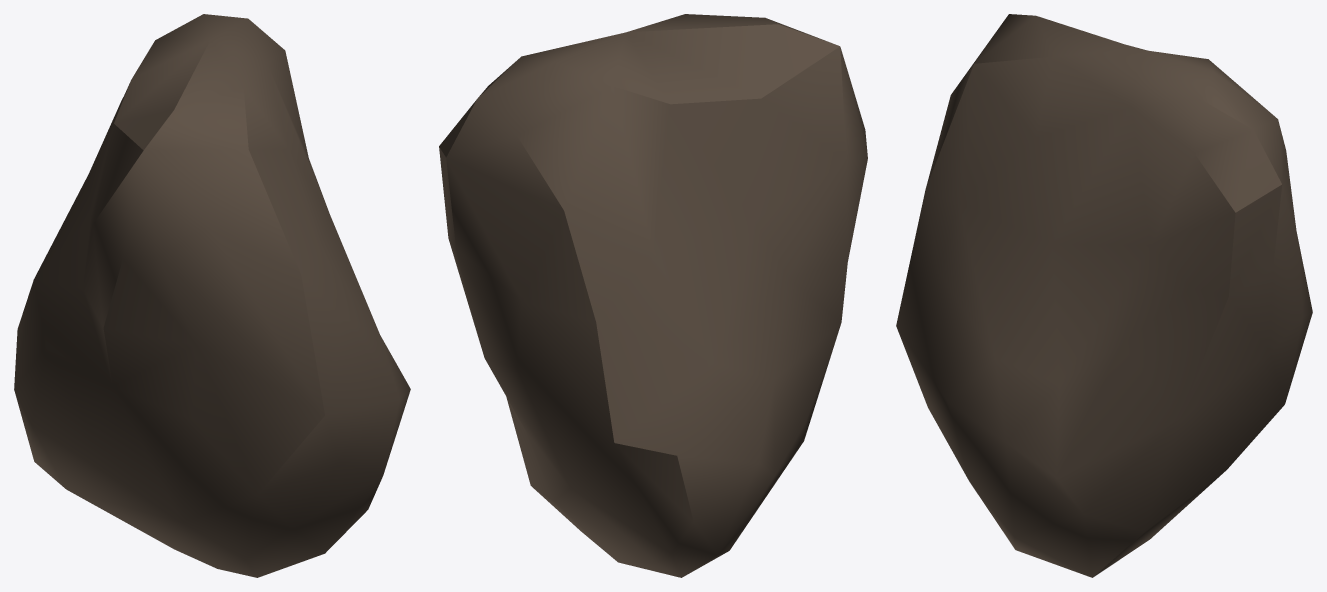
File: rock.fbx
3 renders of one model, left to right at view 1: azimuth 30°, elevation 25°; view 2: azimuth 150°, elevation 25°; view 3: azimuth 270°, elevation 25°, orthographic. The views are drawn at different scales.
Parts seen in each view (by area): view 1: rock; view 2: rock; view 3: rock.
Boxes of the visible parts, x1=… form: rock: x1=14, y1=14, x2=410, y2=577; rock: x1=439, y1=14, x2=867, y2=577; rock: x1=896, y1=14, x2=1312, y2=577.
Size of the model in its own units: 64.94 by 108 by 80.09.
